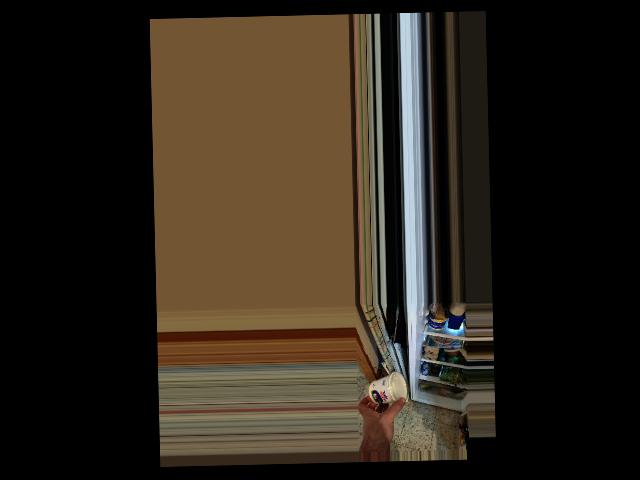cotage: (367, 373, 406, 407)
